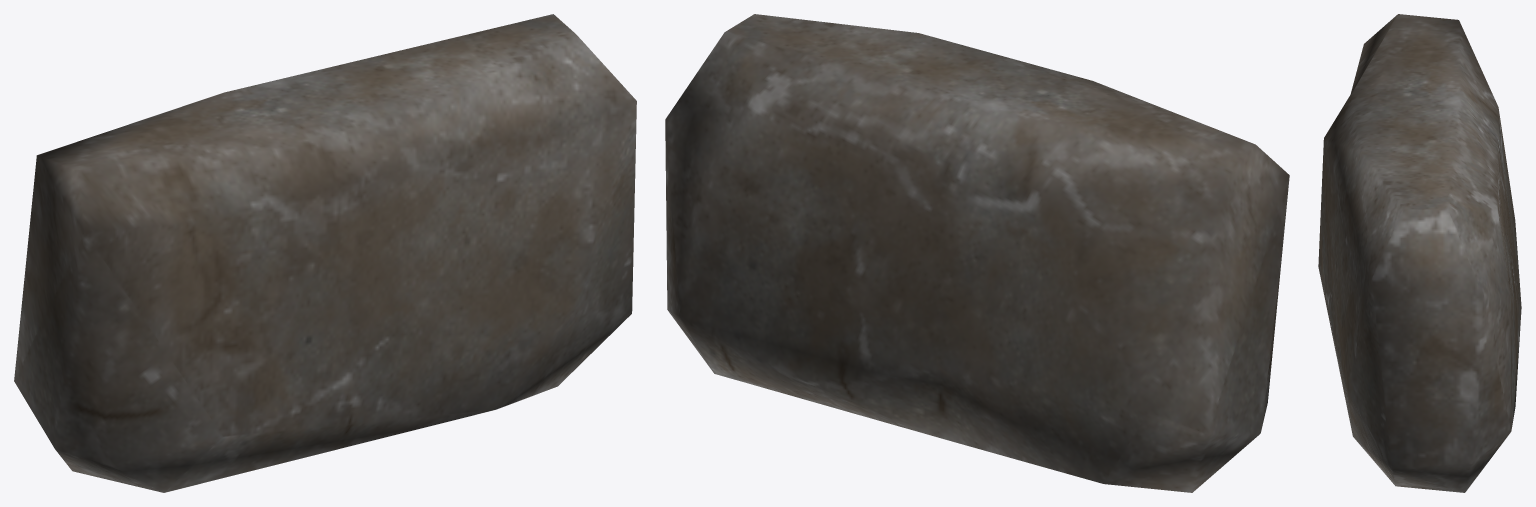
File: SM_Brick_02.fbx
3 views of the same model, side by side, from view 1: azimuth 30°, elevation 25°; view 2: azimuth 150°, elevation 25°; view 3: azimuth 270°, elevation 25° (orthographic). The views are drawn at different scales.
Visible parts, largest first — view 1: SM_Brick_03; view 2: SM_Brick_03; view 3: SM_Brick_03.
Part boxes in pixels (left/top/right/bottom): SM_Brick_03: left=14, top=14, right=636, bottom=492; SM_Brick_03: left=665, top=14, right=1289, bottom=492; SM_Brick_03: left=1318, top=14, right=1521, bottom=492.
Bounding box in the file's own units: 27.72 × 16.17 × 10.32.
1 material, 1 textured.
